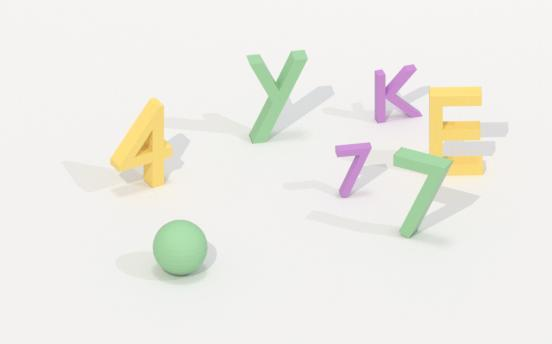chu_khoi: (247, 50, 307, 143), (429, 87, 484, 175), (374, 64, 421, 122)
hinh_cau: (153, 220, 207, 275)
so_khoi: (111, 98, 172, 186), (393, 147, 451, 237), (335, 142, 371, 197)
